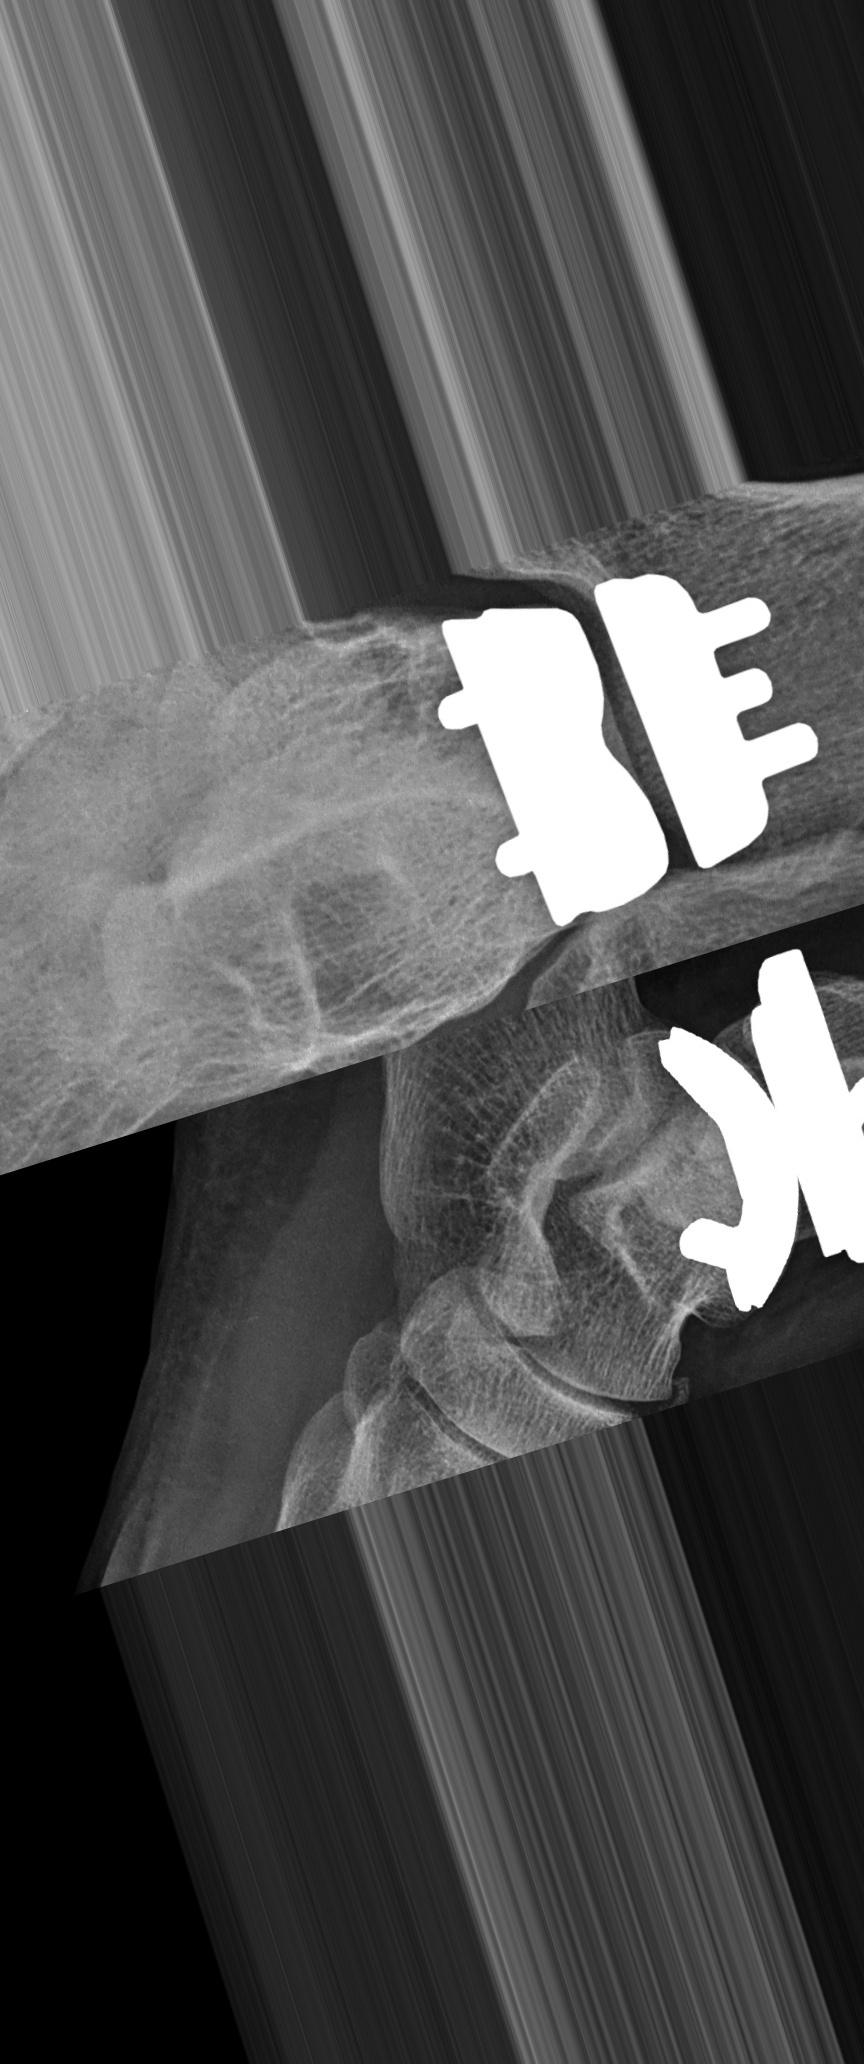Ankle - Infinity - Wright: (427, 558, 822, 932), (656, 935, 864, 1322)
